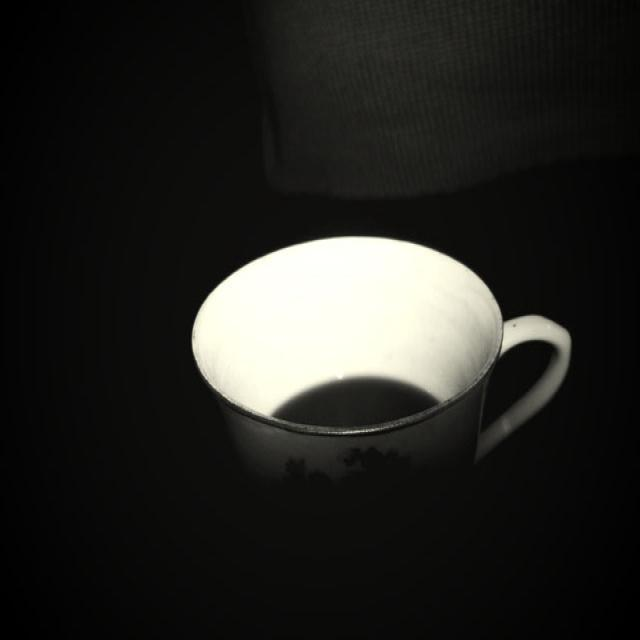Cup: (171, 207, 569, 551)
